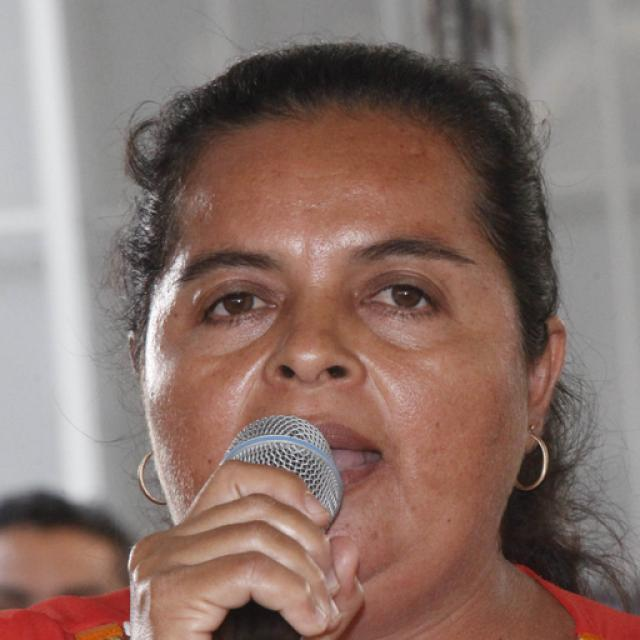neutral: (138, 107, 532, 638)
